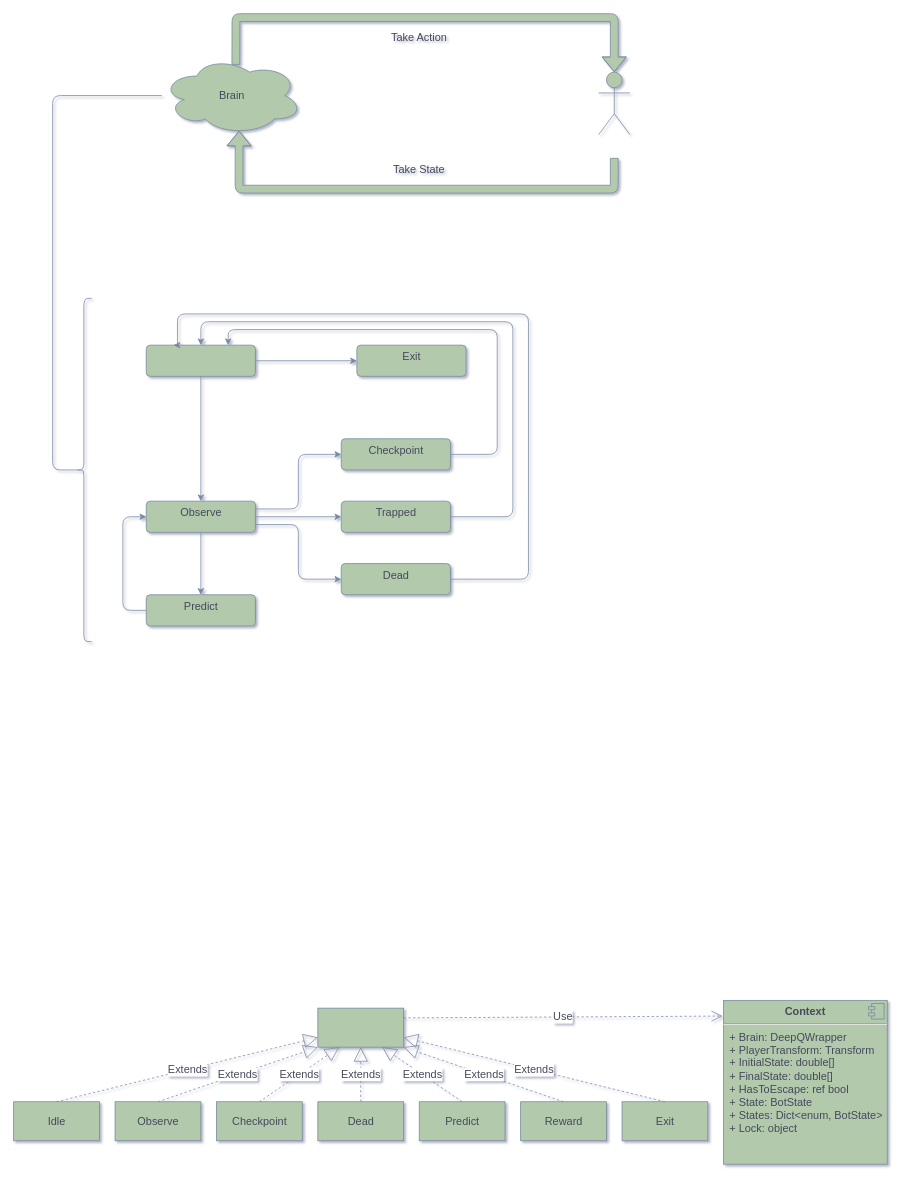
This 906x1182 diagram has some shape labels left out. The centre of each missing label's shape, as x and y in pixels:
"Bot" goes at (614,103).
"Start / Idle" goes at (200,360).
"State" goes at (360,1027).
